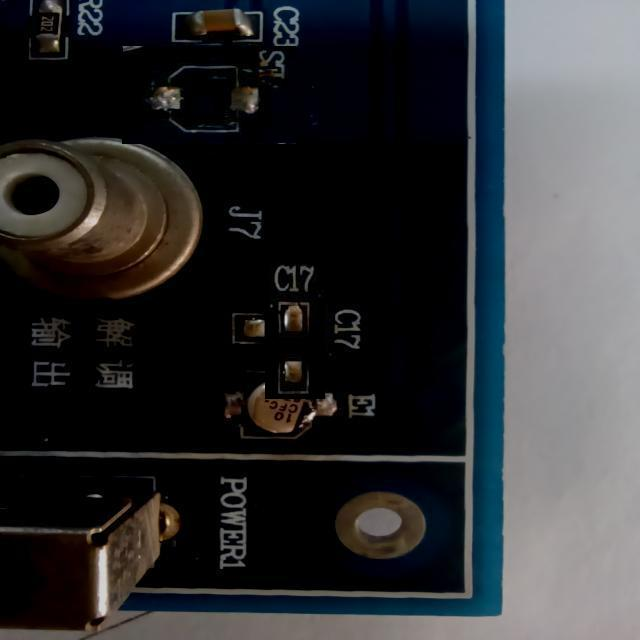miss_welding: (122, 46, 296, 144), (246, 281, 344, 380)
